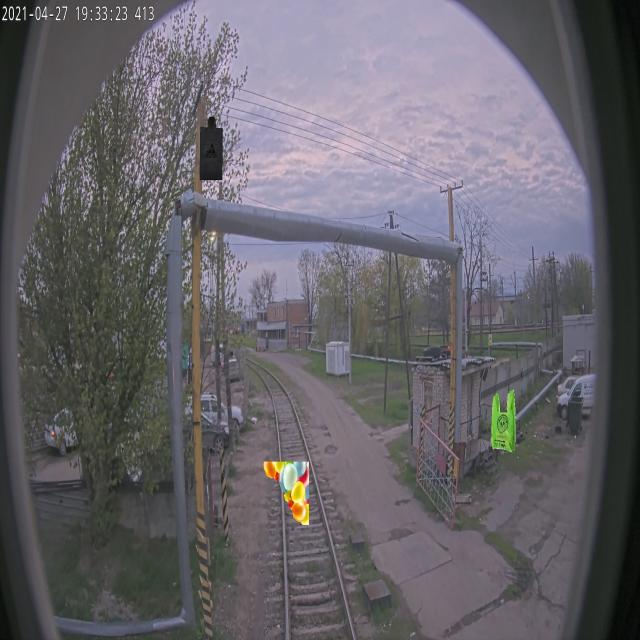balloon: (263, 461, 309, 525)
plastic bag: (490, 388, 516, 452), (199, 116, 223, 180)
